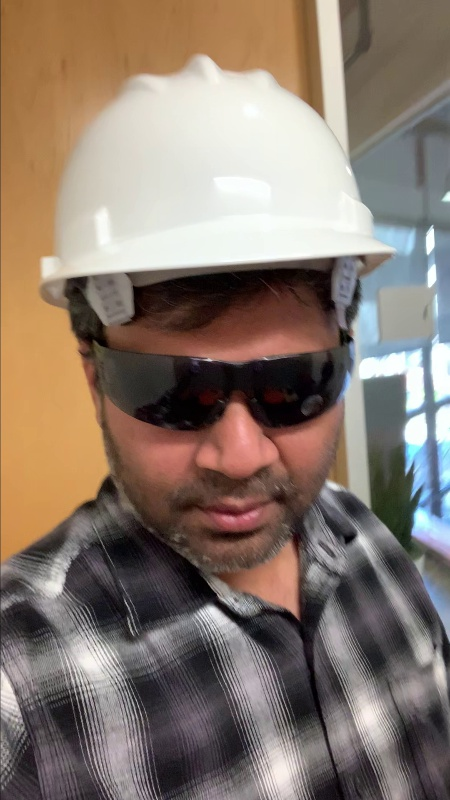glasses: (88, 340, 356, 440)
helmet: (32, 51, 402, 303)
